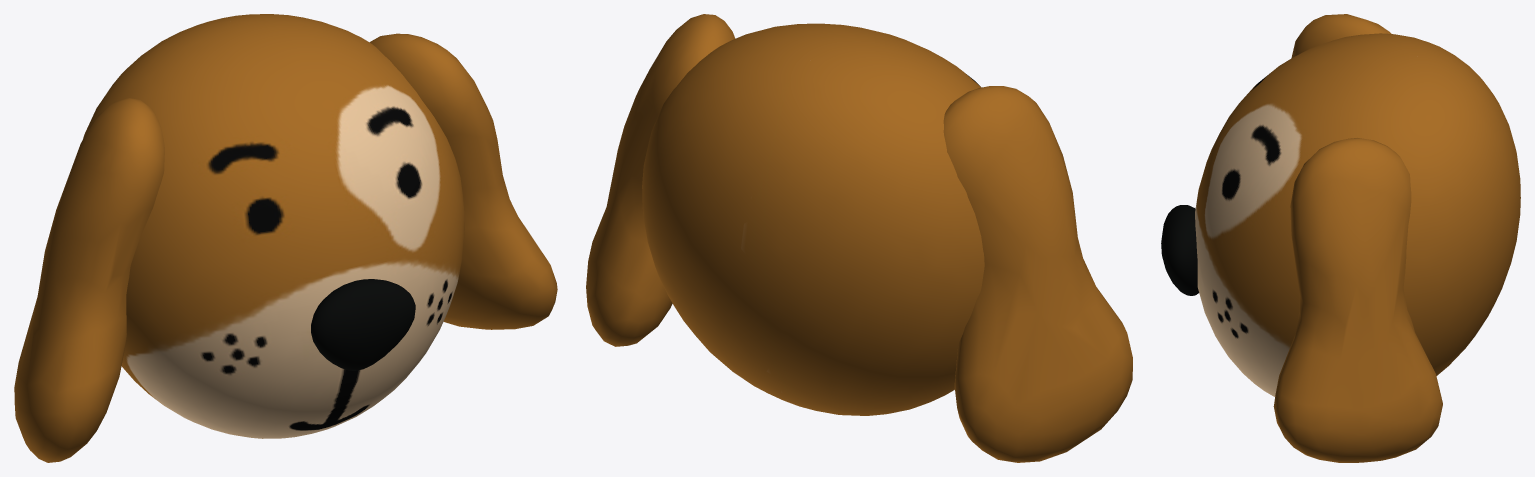
File: dog (1).glb
3 renders of one model, left to right at view 1: azimuth 30°, elevation 25°; view 2: azimuth 150°, elevation 25°; view 3: azimuth 270°, elevation 25°, orthographic. The views are drawn at different scales.
Parts seen in each view (by area): view 1: PM3D_Sphere3D_8, PM3D_Sphere3D_2, PM3D_Sphere3D_7; view 2: PM3D_Sphere3D_8, PM3D_Sphere3D_2; view 3: PM3D_Sphere3D_8, PM3D_Sphere3D_2, PM3D_Sphere3D_7.
Boxes of the visible parts, left/top/right/bottom form: PM3D_Sphere3D_8: left=83, top=14, right=464, bottom=438; PM3D_Sphere3D_2: left=14, top=33, right=557, bottom=462; PM3D_Sphere3D_7: left=311, top=279, right=415, bottom=370; PM3D_Sphere3D_8: left=642, top=23, right=984, bottom=415; PM3D_Sphere3D_2: left=586, top=14, right=1132, bottom=462; PM3D_Sphere3D_8: left=1195, top=33, right=1520, bottom=396; PM3D_Sphere3D_2: left=1273, top=14, right=1442, bottom=462; PM3D_Sphere3D_7: left=1161, top=205, right=1198, bottom=295.
Bounding box in the file's own units: 0.1457 × 0.1006 × 0.096.
Materials: 3 (2 with a texture image).
